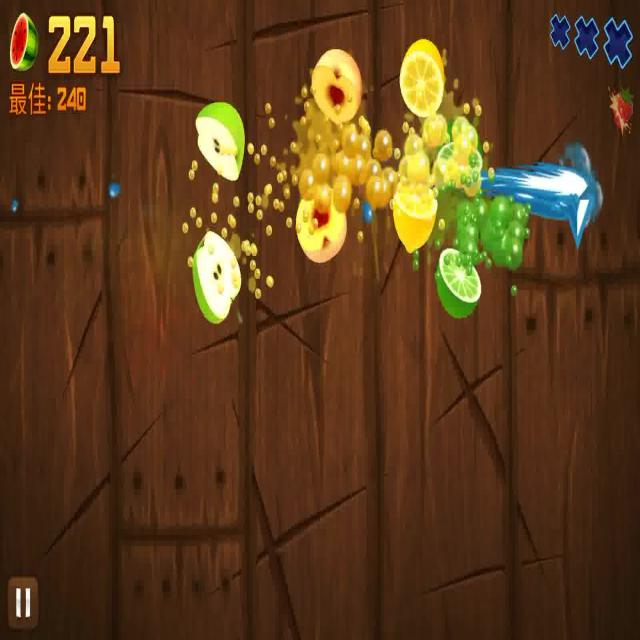fruit: (192, 100, 250, 180), (193, 233, 244, 322), (295, 187, 348, 261), (308, 52, 364, 120), (436, 242, 482, 320), (400, 38, 445, 117), (391, 182, 437, 248)
